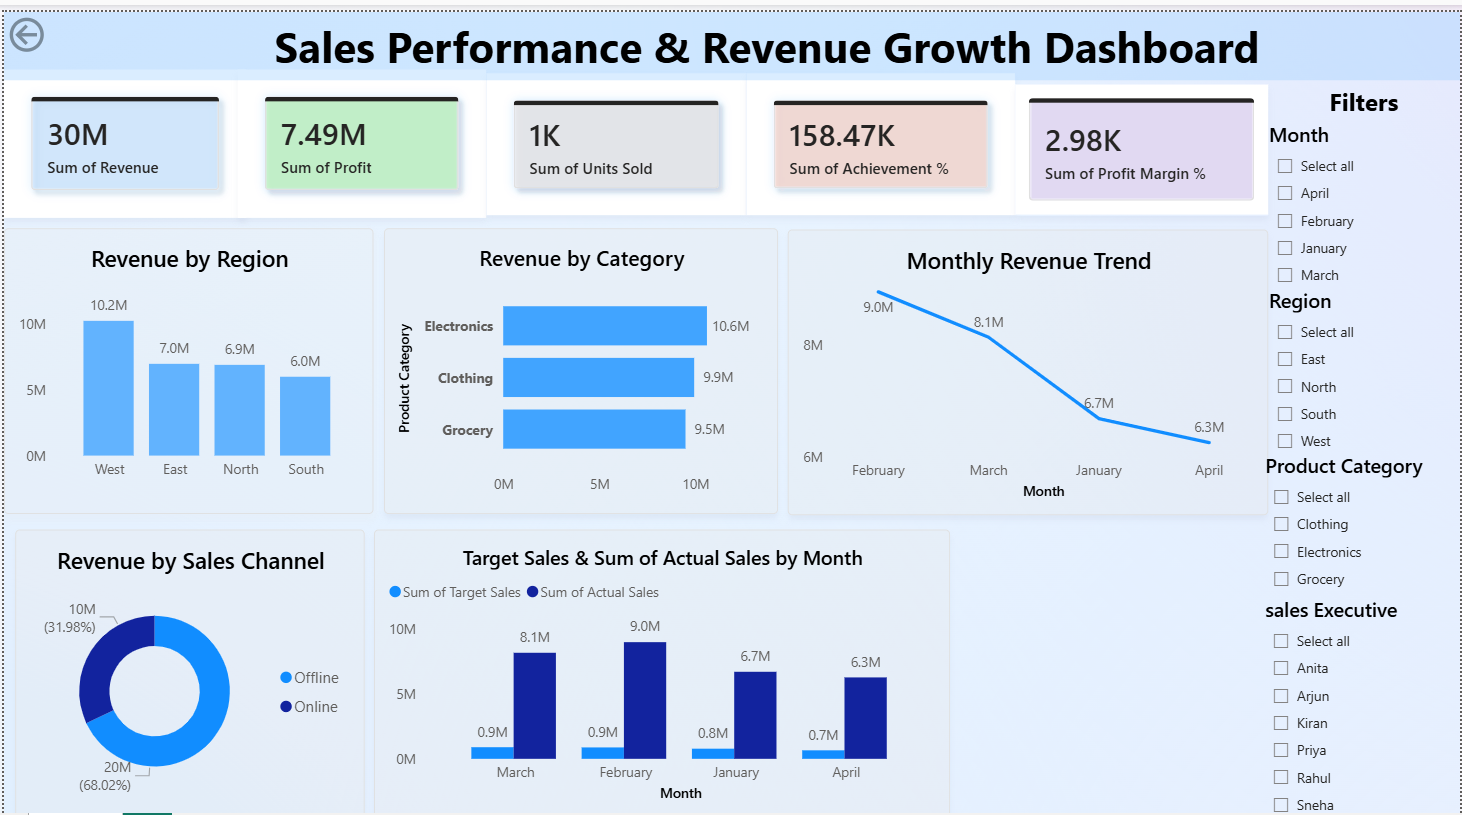

What the dashboard file says about the page in this screenshot:
{"tool":"powerbi","page":{"name":"Page 1","canvas":[1280,720],"ordinal":0},"visuals":[{"type":"cardVisual","fields":{"Data":["Sum(SalesData.Revenue)"]},"box":[0,50,213.8,130],"z":0},{"type":"cardVisual","fields":{"Data":["Sum(SalesData.Profit)"]},"box":[205,50,218.8,130],"z":1000},{"type":"cardVisual","fields":{"Data":["Sum(SalesData.Units Sold)"]},"box":[423.8,54.1,228.8,125.1],"z":2000},{"type":"cardVisual","fields":{"Data":["Sum(SalesData.Achievement %)"]},"box":[652.6,54.1,236.7,125.1],"z":3000},{"type":"cardVisual","fields":{"Data":["Sum(SalesData.Profit Margin %)"]},"box":[889.3,64.2,222,115],"z":4000},{"type":"actionButton","box":[0,0,100,40],"z":5000},{"type":"clusteredColumnChart","title":" Revenue by Region","fields":{"Category":["SalesData.Region"],"Y":["Sum(SalesData.Revenue)"]},"box":[0,190,325,251.2],"z":6000},{"type":"clusteredBarChart","title":" Revenue by Category","fields":{"Category":["SalesData.Product Category"],"Y":["Sum(SalesData.Revenue)"]},"box":[333.8,190,346.2,251.2],"z":7000},{"type":"lineChart","title":"Monthly Revenue Trend","fields":{"Category":["SalesData.Month"],"Y":["Sum(SalesData.Revenue)"]},"box":[688.8,191.2,422.5,251.2],"z":8000},{"type":"donutChart","title":" Revenue by Sales Channel","fields":{"Category":["SalesData.Sales Channel"],"Y":["Sum(SalesData.Revenue)"]},"box":[10,454.5,307.3,253.6],"z":9000},{"type":"clusteredColumnChart","title":"Target Sales & Sum of Actual Sales by Month","fields":{"Category":["SalesData.Month"],"Y":["Sum(SalesData.Target Sales)","Sum(SalesData.Actual Sales)"]},"box":[325,455,506,253],"z":10000},{"type":"slicer","title":"Month","fields":{"Values":["SalesData.Month"]},"box":[1112.1,95.9,135,146.9],"z":11000},{"type":"slicer","title":"   Region","fields":{"Values":["SalesData.Region"]},"box":[1112.1,241.6,120.8,148],"z":12000},{"type":"slicer","title":"Product Category","fields":{"Values":["SalesData.Product Category"]},"box":[1109.1,386.6,153.3,135.3],"z":13000},{"type":"slicer","title":"sales Executive","fields":{"Values":["SalesData.Sales Executive"]},"box":[1109.1,512.8,142,195],"z":14000},{"type":"textbox","box":[0,0,1280,60],"z":15000},{"type":"textbox","box":[1111.3,59.8,168.9,42],"z":16000}]}

Visuals, with their boxes in screenshot pixels (x1, y1, x2, y2), scaled from the page's 1280x720 canvas onto the 1462x815 screenshot:
cardVisual - Sum(SalesData.Revenue): left=0, top=57, right=244, bottom=204
cardVisual - Sum(SalesData.Profit): left=234, top=57, right=484, bottom=204
cardVisual - Sum(SalesData.Units Sold): left=484, top=61, right=745, bottom=203
cardVisual - Sum(SalesData.Achievement %): left=745, top=61, right=1016, bottom=203
cardVisual - Sum(SalesData.Profit Margin %): left=1016, top=73, right=1269, bottom=203
actionButton: left=0, top=0, right=114, bottom=45
" Revenue by Region" clusteredColumnChart: left=0, top=215, right=371, bottom=499
" Revenue by Category" clusteredBarChart: left=381, top=215, right=777, bottom=499
"Monthly Revenue Trend" lineChart: left=787, top=216, right=1269, bottom=501
" Revenue by Sales Channel" donutChart: left=11, top=514, right=362, bottom=802
"Target Sales & Sum of Actual Sales by Month" clusteredColumnChart: left=371, top=515, right=949, bottom=801
"Month" slicer: left=1270, top=109, right=1424, bottom=275
"   Region" slicer: left=1270, top=273, right=1408, bottom=441
"Product Category" slicer: left=1267, top=438, right=1442, bottom=591
"sales Executive" slicer: left=1267, top=580, right=1429, bottom=801
textbox: left=0, top=0, right=1461, bottom=68
textbox: left=1269, top=68, right=1461, bottom=115
